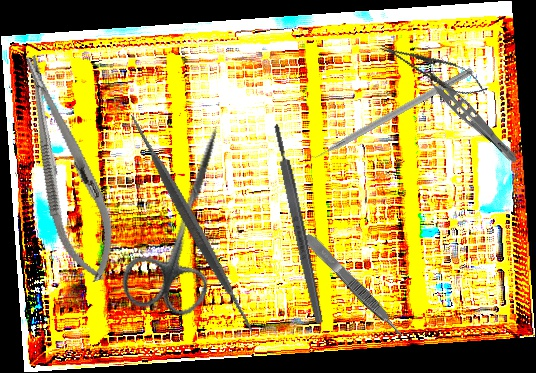Chopper: (297, 58, 475, 167)
Iris Scissors: (115, 112, 254, 325)
Needle Holder: (4, 47, 128, 289), (374, 33, 492, 104)
Scalpel Handle: (270, 122, 326, 326)
Spatula Surgical: (70, 102, 314, 343)
Tissue Forceps: (301, 230, 407, 342), (418, 63, 527, 166)
